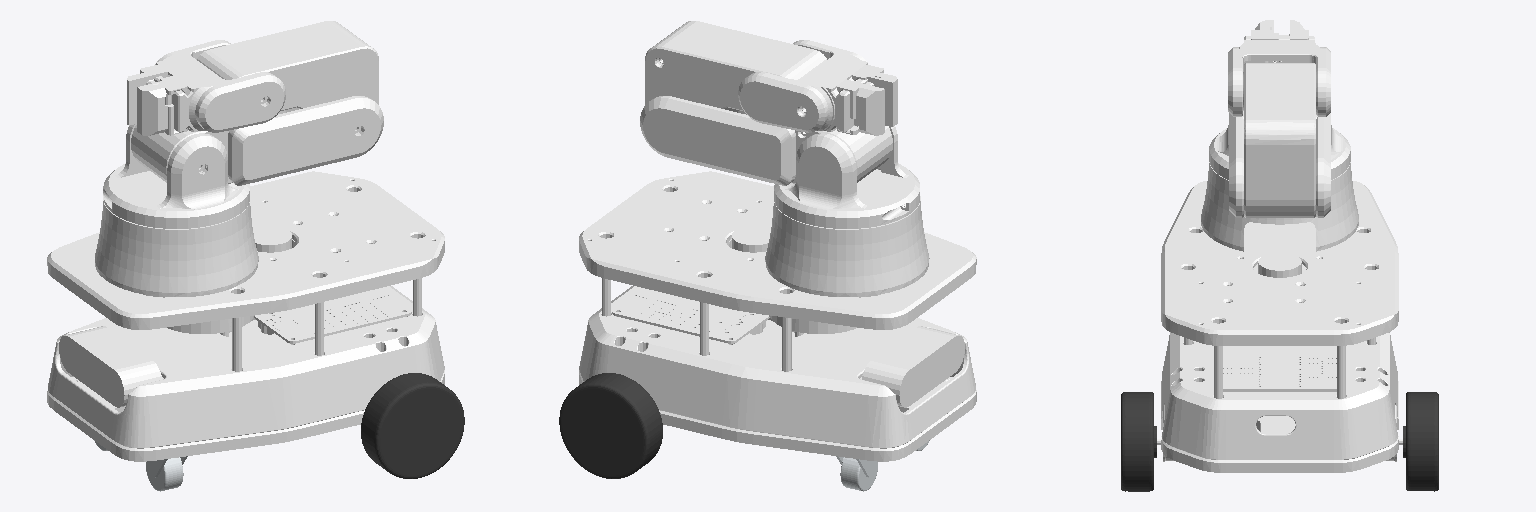
URDF robot description (xc_urdf):
<?xml version="1.0" encoding="utf-8"?>
<!-- This URDF was automatically created by SolidWorks to URDF Exporter! Originally created by Stephen Brawner (brawner@gmail.com) 
     Commit Version: 1.6.0-4-g7f85cfe  Build Version: 1.6.7995.38578
     For more information, please see http://wiki.ros.org/sw_urdf_exporter -->
<robot
  name="xc_urdf">
  <!-- Keep base_link as the navigation frame; rotate only the CAD model for RViz. -->
  <link
    name="base_link">
    <inertial>
      <origin
        xyz="-0.00197167480169581 -0.000122347580332399 0.00828700108635093"
        rpy="0 0 0" />
      <mass
        value="1.38347431367086" />
      <inertia
        ixx="0.00146738564724886"
        ixy="-3.42395260263996E-06"
        ixz="-1.50060721917905E-05"
        iyy="0.00272256204808231"
        iyz="2.6934971330369E-06"
        izz="0.00387596146259179" />
    </inertial>
  </link>
  <link
    name="xc_model_link">
    <visual>
      <origin
        xyz="0 0 0.11"
        rpy="0 0 0" />
      <geometry>
        <mesh
          filename="package://xc_urdf/meshes/base_link.STL" />
      </geometry>
      <material
        name="">
        <color
          rgba="1 1 1 1" />
      </material>
    </visual>
    <collision>
      <origin
        xyz="0 0 0.11"
        rpy="0 0 0" />
      <geometry>
        <mesh
          filename="package://xc_urdf/meshes/base_link.STL" />
      </geometry>
    </collision>
  </link>
  <joint
    name="base_to_xc_model"
    type="fixed">
    <origin
      xyz="0 0 0"
      rpy="0 0 3.141592653589793" />
    <parent
      link="base_link" />
    <child
      link="xc_model_link" />
  </joint>
  <link
    name="Empty_Link1">
    <inertial>
      <origin
        xyz="-7.62788679442572E-10 0.00158038832427439 0.00599232695785889"
        rpy="0 0 0" />
      <mass
        value="0.0272846657527921" />
      <inertia
        ixx="4.07334324951061E-06"
        ixy="3.91827579527818E-14"
        ixz="3.98509869637933E-13"
        iyy="3.82468808639562E-06"
        iyz="-5.10828322956161E-07"
        izz="2.61087120188963E-06" />
    </inertial>
    <visual>
      <origin
        xyz="0 0 0"
        rpy="0 0 0" />
      <geometry>
        <mesh
          filename="package://xc_urdf/meshes/Empty_Link1.STL" />
      </geometry>
      <material
        name="">
        <color
          rgba="0.898039215686275 0.917647058823529 0.929411764705882 1" />
      </material>
    </visual>
    <collision>
      <origin
        xyz="0 0 0"
        rpy="0 0 0" />
      <geometry>
        <mesh
          filename="package://xc_urdf/meshes/Empty_Link1.STL" />
      </geometry>
    </collision>
  </link>
  <joint
    name="L1"
    type="fixed">
    <origin
      xyz="0.0769999999999979 0.0334999999999998 0.0175"
      rpy="0 0 0" />
    <parent
      link="xc_model_link" />
    <child
      link="Empty_Link1" />
    <axis
      xyz="0 0 1" />
  </joint>
  <link
    name="Empty_Link2">
    <inertial>
      <origin
        xyz="7.6278881822045E-10 -0.00158038832427439 0.00599232695785888"
        rpy="0 0 0" />
      <mass
        value="0.0272846657527921" />
      <inertia
        ixx="4.0733432495106E-06"
        ixy="3.91827703134016E-14"
        ixz="-3.98509904538453E-13"
        iyy="3.82468808639562E-06"
        iyz="5.10828322956161E-07"
        izz="2.61087120188962E-06" />
    </inertial>
    <visual>
      <origin
        xyz="0 0 0"
        rpy="0 0 0" />
      <geometry>
        <mesh
          filename="package://xc_urdf/meshes/Empty_Link2.STL" />
      </geometry>
      <material
        name="">
        <color
          rgba="0.898039215686275 0.917647058823529 0.929411764705882 1" />
      </material>
    </visual>
    <collision>
      <origin
        xyz="0 0 0"
        rpy="0 0 0" />
      <geometry>
        <mesh
          filename="package://xc_urdf/meshes/Empty_Link2.STL" />
      </geometry>
    </collision>
  </link>
  <joint
    name="LR1"
    type="fixed">
    <origin
      xyz="0.076999999999998 -0.0334999999999996 0.0175"
      rpy="0 0 0" />
    <parent
      link="xc_model_link" />
    <child
      link="Empty_Link2" />
    <axis
      xyz="0 0 1" />
  </joint>
  <link
    name="Empty_Link3">
    <inertial>
      <origin
        xyz="3.19437892623564E-07 -8.93711913050599E-05 2.30903450500544E-07"
        rpy="0 0 0" />
      <mass
        value="0.0758772106233843" />
      <inertia
        ixx="2.14000230411095E-05"
        ixy="-8.97611419511614E-12"
        ixz="-7.09406194543137E-10"
        iyy="3.71665775309804E-05"
        iyz="5.99767599321799E-12"
        izz="2.14003516816011E-05" />
    </inertial>
    <visual>
      <origin
        xyz="0 0 0"
        rpy="0 0 0" />
      <geometry>
        <mesh
          filename="package://xc_urdf/meshes/Empty_Link3.STL" />
      </geometry>
      <material
        name="">
        <color
          rgba="0.298039215686275 0.298039215686275 0.298039215686275 1" />
      </material>
    </visual>
    <collision>
      <origin
        xyz="0 0 0"
        rpy="0 0 0" />
      <geometry>
        <mesh
          filename="package://xc_urdf/meshes/Empty_Link3.STL" />
      </geometry>
    </collision>
  </link>
  <joint
    name="LB2"
    type="fixed">
    <origin
      xyz="-0.0650000000000016 0.09 0.0365"
      rpy="0 0 0" />
    <parent
      link="xc_model_link" />
    <child
      link="Empty_Link3" />
    <axis
      xyz="0 -1 0" />
  </joint>
  <link
    name="Empty_Link4">
    <inertial>
      <origin
        xyz="2.89018891222459E-07 2.6800196192096E-07 -8.93711913050599E-05"
        rpy="0 0 0" />
      <mass
        value="0.0758772106233844" />
      <inertia
        ixx="2.14000664475817E-05"
        ixy="-7.1807948817931E-10"
        ixz="4.12261279556443E-12"
        iyy="2.14003082751291E-05"
        iyz="-9.977314567107E-12"
        izz="3.71665775309805E-05" />
    </inertial>
    <visual>
      <origin
        xyz="0 0 0"
        rpy="0 0 0" />
      <geometry>
        <mesh
          filename="package://xc_urdf/meshes/Empty_Link4.STL" />
      </geometry>
      <material
        name="">
        <color
          rgba="0.298039215686275 0.298039215686275 0.298039215686275 1" />
      </material>
    </visual>
    <collision>
      <origin
        xyz="0 0 0"
        rpy="0 0 0" />
      <geometry>
        <mesh
          filename="package://xc_urdf/meshes/Empty_Link4.STL" />
      </geometry>
    </collision>
  </link>
  <joint
    name="RB2"
    type="fixed">
    <origin
      xyz="-0.0650000000000015 -0.0900000000000001 0.0365"
      rpy="1.5707963267949 0 0" />
    <parent
      link="xc_model_link" />
    <child
      link="Empty_Link4" />
    <axis
      xyz="0 0 -1" />
  </joint>
</robot>

--- Facts derived from the render (not from the file) ---
3 views of the same robot in one strip: view 1: azimuth 30°, elevation 25°; view 2: azimuth 150°, elevation 25°; view 3: azimuth 270°, elevation 25° (orthographic).
Model xc_urdf with 6 links and 5 joints (5 fixed), rooted at base_link, posed all joints at 0.
Links seen in each view (by area): view 1: xc_model_link, Empty_Link3, Empty_Link1; view 2: xc_model_link, Empty_Link4, Empty_Link2; view 3: xc_model_link, Empty_Link3, Empty_Link4.
Boxes of the visible links, x1=… form: xc_model_link: x1=47, y1=21, x2=444, y2=461; Empty_Link3: x1=361, y1=373, x2=464, y2=478; Empty_Link1: x1=146, y1=456, x2=187, y2=491; xc_model_link: x1=579, y1=21, x2=976, y2=461; Empty_Link4: x1=559, y1=373, x2=662, y2=478; Empty_Link2: x1=836, y1=456, x2=877, y2=491; xc_model_link: x1=1157, y1=20, x2=1402, y2=472; Empty_Link3: x1=1121, y1=392, x2=1156, y2=491; Empty_Link4: x1=1403, y1=392, x2=1438, y2=491.
Size in the robot's own frame: 0.23 by 0.201 by 0.259 metres.
5 mesh visuals loaded from 5 distinct referenced files (5 binary STL).
